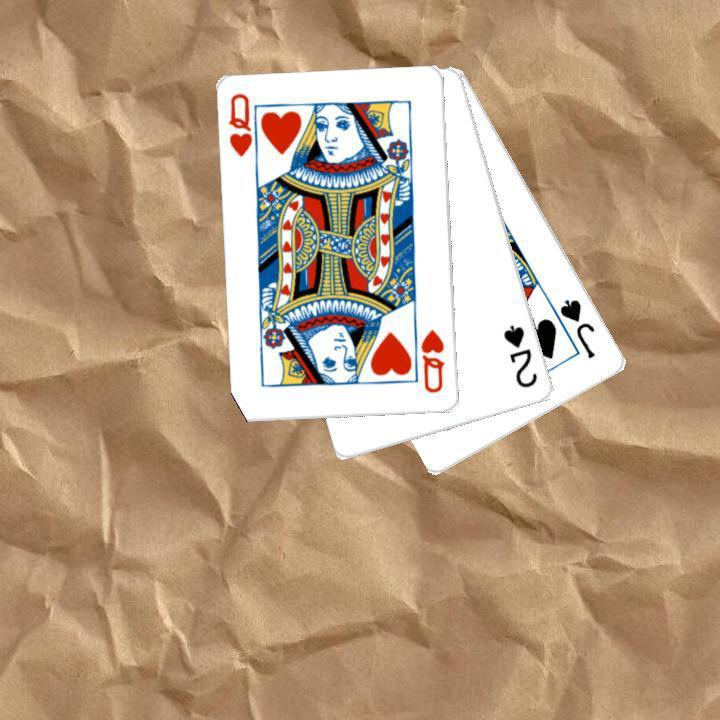2: (499, 321, 540, 390)
J: (555, 295, 598, 361)
Q: (225, 89, 261, 167), (417, 326, 447, 396)
